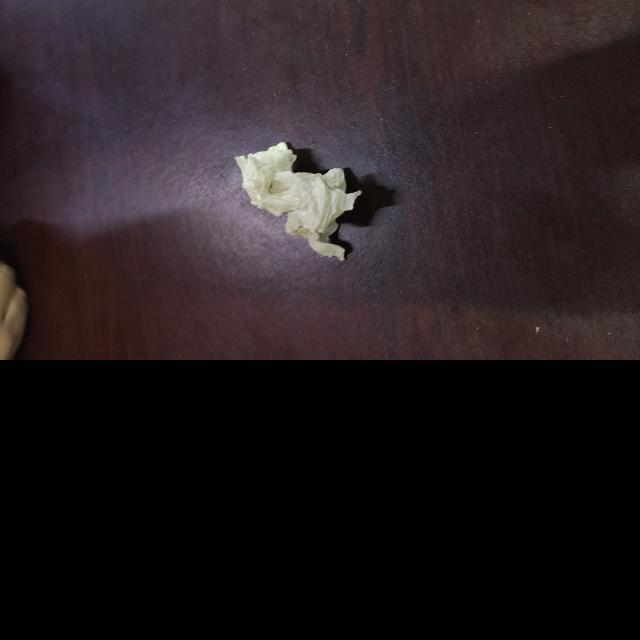kitchen paper: (229, 134, 373, 281)
